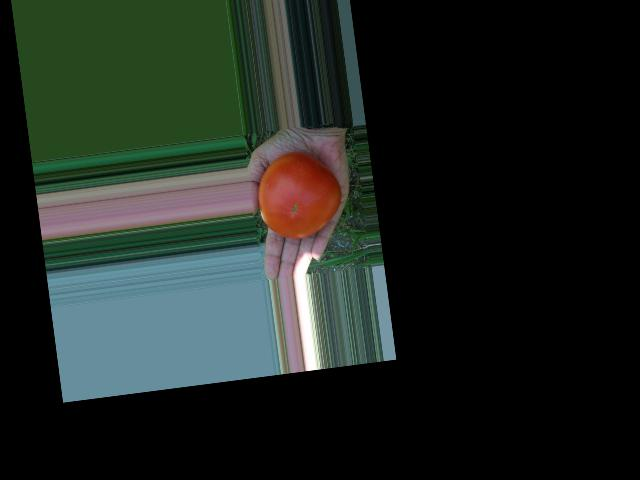tomato: (253, 147, 346, 243)
